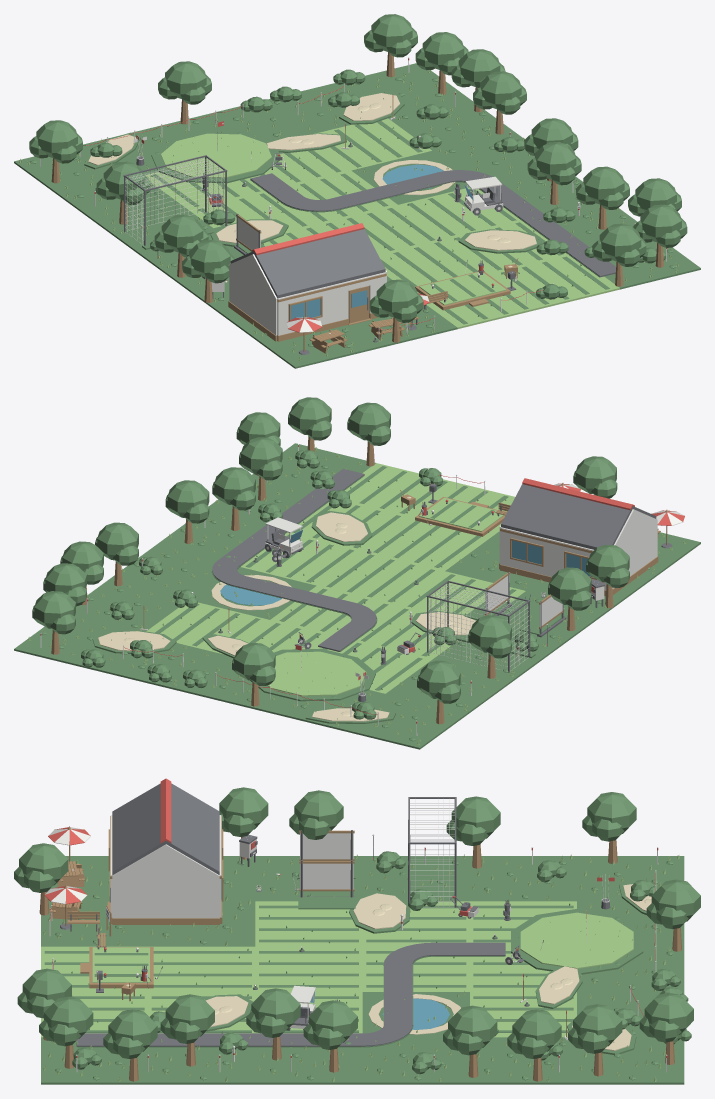
The model's file is golf-course-and-clubhouse-par-four-and-c-863e7566-starter-scene__33510.glb.
The picture shows the model from 3 angles, top to bottom: view 1: azimuth 30°, elevation 25°; view 2: azimuth 150°, elevation 25°; view 3: azimuth 270°, elevation 25°; orthographic projection. The views are drawn at different scales.
Visible parts, largest first — view 1: 052-putting-green-with-flag/1, 025-rough-ground-tile/0, 095-clubhouse-roof-slope/0, 024-rough-ground-tile/0, 023-fairway-ground-tile/0, 098-clubhouse-roof-slope/0, 001-rough-ground-tile/0, 110-practice-net/1, 026-rough-ground-tile/0, 019-fairway-ground-tile/0, 093-clubhouse-gable-end/0, 018-rough-ground-tile/0 (+64 smaller); view 2: 052-putting-green-with-flag/1, 000-rough-ground-tile/0, 015-fairway-ground-tile/0, 025-rough-ground-tile/0, 016-fairway-ground-tile/0, 026-rough-ground-tile/0, 099-clubhouse-roof-slope/0, 018-rough-ground-tile/0, 096-clubhouse-roof-slope/0, 019-fairway-ground-tile/0, 027-rough-ground-tile/0, 023-fairway-ground-tile/0 (+67 smaller); view 3: 094-clubhouse-gable-end/0, 052-putting-green-with-flag/1, 001-rough-ground-tile/0, 026-rough-ground-tile/0, 015-fairway-ground-tile/0, 016-fairway-ground-tile/0, 024-rough-ground-tile/0, 028-rough-ground-tile/0, 027-rough-ground-tile/0, 009-fairway-ground-tile/0, 000-rough-ground-tile/0, 002-rough-ground-tile/0 (+73 smaller).
Boxes of the visible parts, box(x1,y1,x2,y2) form: 052-putting-green-with-flag/1: box(161, 133, 271, 177); 025-rough-ground-tile/0: box(388, 96, 512, 150); 095-clubhouse-roof-slope/0: box(254, 242, 331, 298); 024-rough-ground-tile/0: box(342, 63, 465, 113); 023-fairway-ground-tile/0: box(492, 254, 619, 309); 098-clubhouse-roof-slope/0: box(310, 229, 385, 284); 001-rough-ground-tile/0: box(61, 182, 188, 231); 110-practice-net/1: box(125, 158, 225, 244); 026-rough-ground-tile/0: box(432, 131, 534, 179); 019-fairway-ground-tile/0: box(314, 118, 431, 170); 093-clubhouse-gable-end/0: box(229, 254, 277, 335); 018-rough-ground-tile/0: box(268, 83, 355, 135); 052-putting-green-with-flag/1: box(267, 651, 366, 695); 000-rough-ground-tile/0: box(338, 694, 466, 749); 015-fairway-ground-tile/0: box(317, 551, 444, 605); 025-rough-ground-tile/0: box(75, 580, 178, 631); 016-fairway-ground-tile/0: box(364, 517, 491, 570); 026-rough-ground-tile/0: box(108, 546, 216, 596); 099-clubhouse-roof-slope/0: box(501, 484, 575, 540); 018-rough-ground-tile/0: box(95, 643, 222, 689); 096-clubhouse-roof-slope/0: box(555, 497, 632, 549); 019-fairway-ground-tile/0: box(146, 602, 269, 653); 027-rough-ground-tile/0: box(155, 514, 262, 561); 023-fairway-ground-tile/0: box(345, 463, 456, 516); 094-clubhouse-gable-end/0: box(112, 844, 219, 918); 052-putting-green-with-flag/1: box(520, 912, 633, 968); 001-rough-ground-tile/0: box(470, 856, 576, 901); 026-rough-ground-tile/0: box(362, 1037, 469, 1084); 015-fairway-ground-tile/0: box(255, 946, 362, 991); 016-fairway-ground-tile/0: box(148, 946, 255, 991); 024-rough-ground-tile/0: box(577, 1037, 684, 1084); 028-rough-ground-tile/0: box(148, 1047, 255, 1084); 027-rough-ground-tile/0: box(255, 1042, 362, 1084); 009-fairway-ground-tile/0: box(255, 901, 362, 946); 000-rough-ground-tile/0: box(577, 856, 684, 901); 002-rough-ground-tile/0: box(362, 856, 469, 901).
Size of the model in its own units: 32.81 by 5.38 by 38.44.
